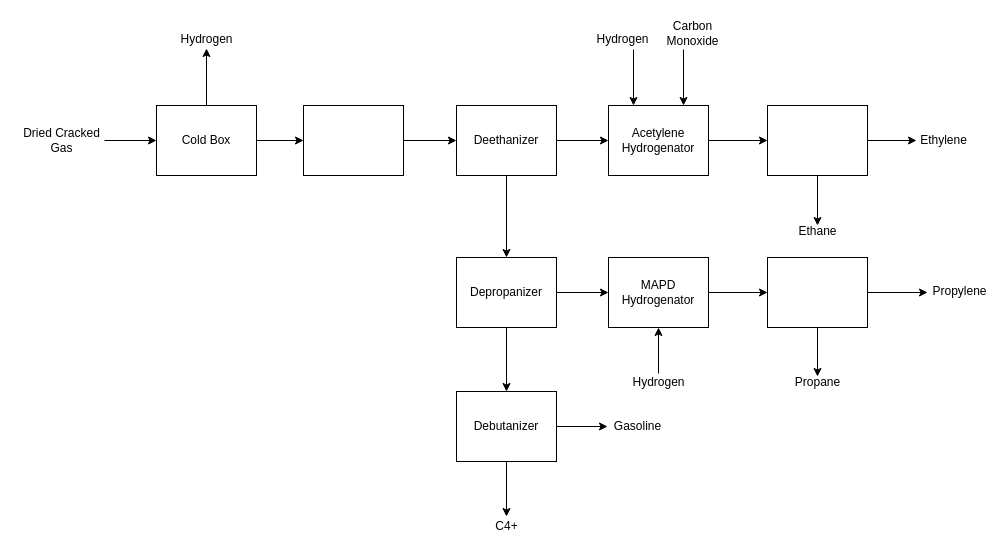
This 1008x552 diagram has some shape labels left out. Here are the shapes that lost their labels. From the top down, the box of each, then its label:
(302, 104, 404, 176): Demethanizer
(766, 104, 868, 176): C2 Splitter
(766, 256, 868, 328): C3 Splitter
